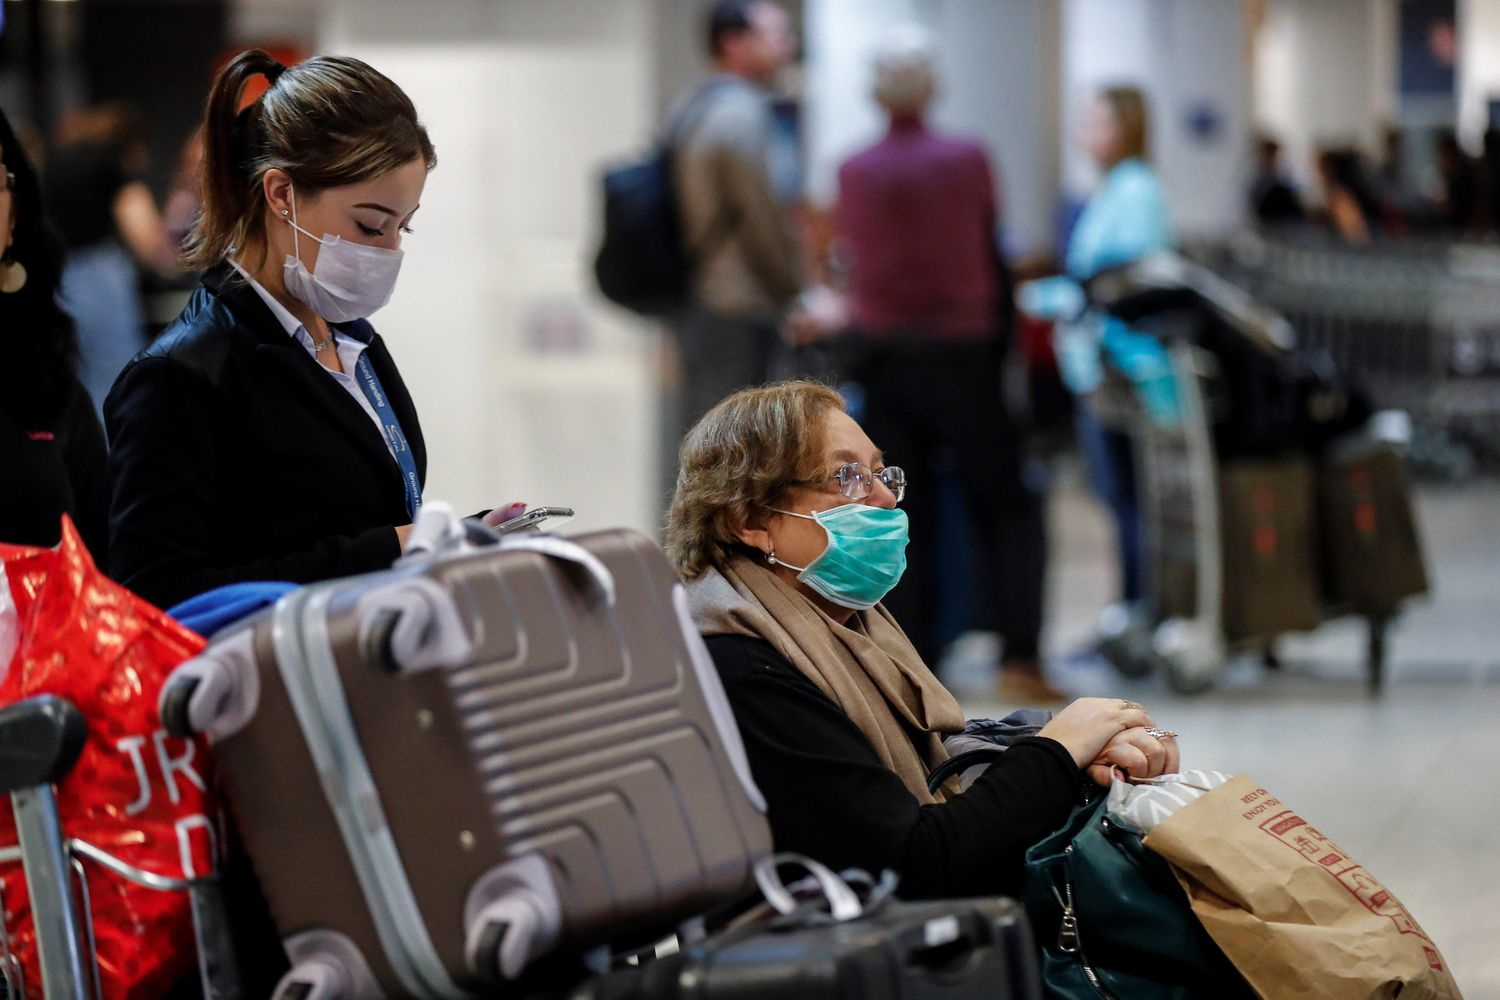mask_weared_incorrect: (668, 369, 917, 622)
with_mask: (218, 67, 432, 333)
